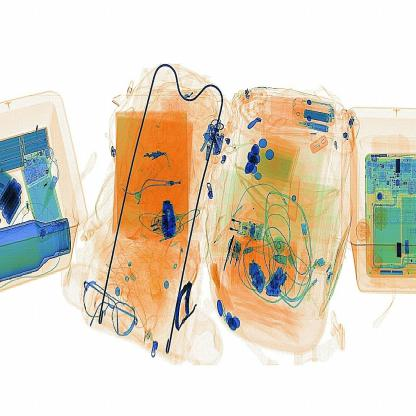scissors: (154, 190, 184, 249)
